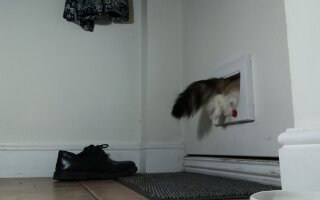clara: (172, 73, 244, 127)
